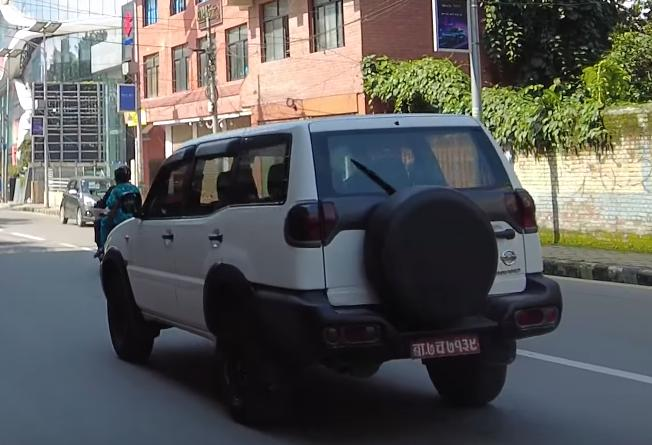SUV: (95, 107, 564, 423)
